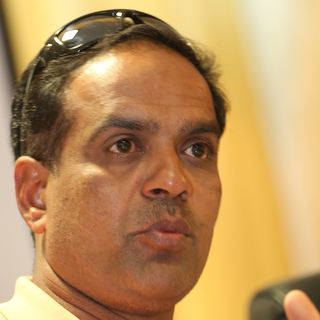eye: (100, 132, 145, 159), (174, 135, 215, 163)
